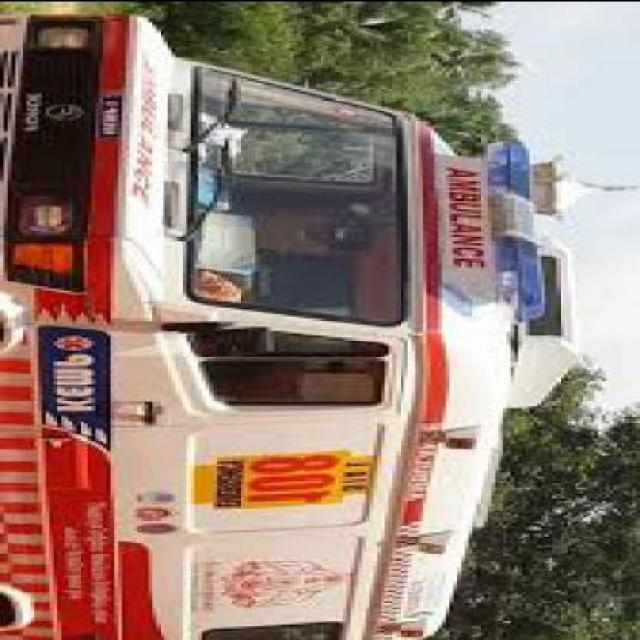Ambulance: (4, 2, 598, 640)
